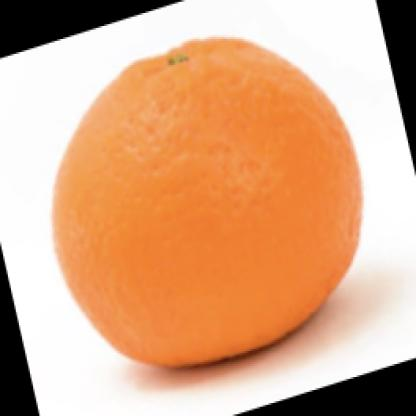orange: (50, 31, 366, 367)
